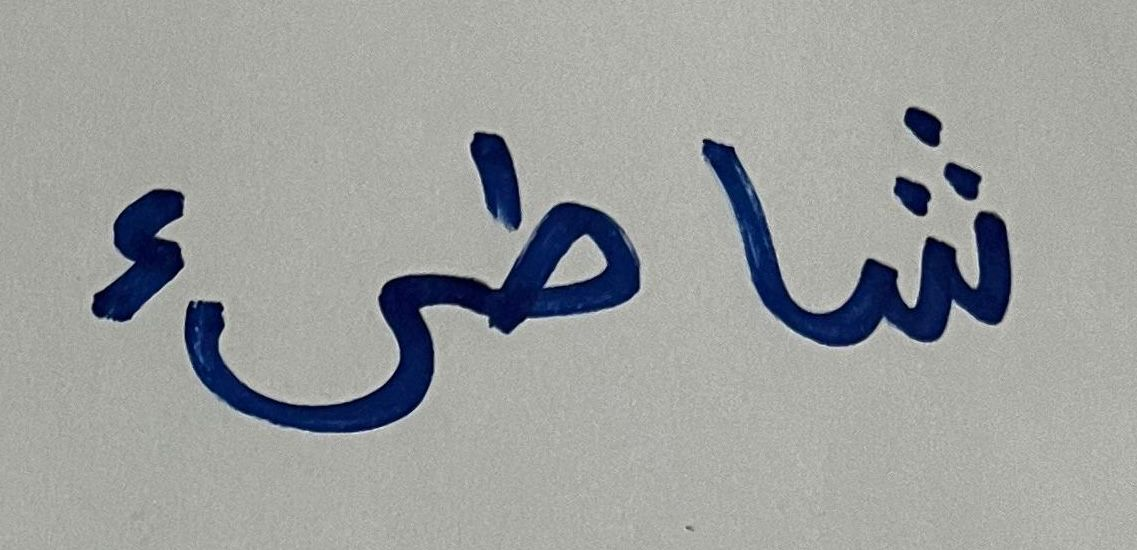alef: (672, 72, 813, 404)
hamza: (64, 150, 182, 328)
sheen: (821, 69, 1047, 414)
tah: (452, 88, 654, 391)
yeh: (186, 277, 447, 484)
